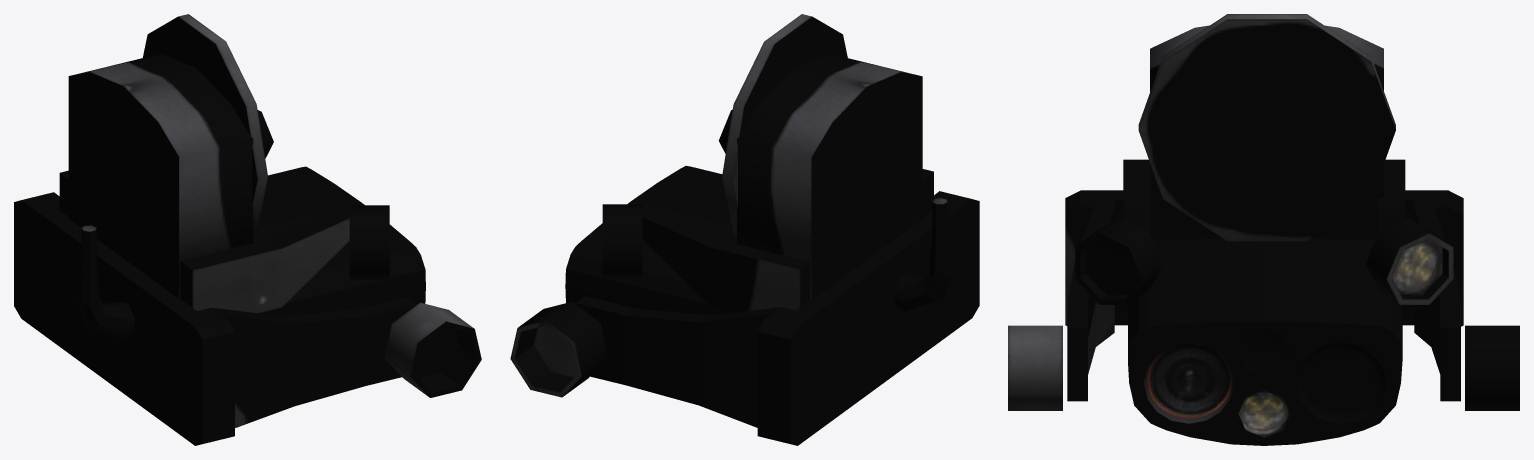
The model's file is head.dae.
The picture shows the model from 3 angles, left to right: view 1: azimuth 30°, elevation 25°; view 2: azimuth 150°, elevation 25°; view 3: azimuth 270°, elevation 25°; orthographic projection. The views are drawn at different scales.
Parts seen in each view (by area): view 1: head; view 2: head; view 3: head.
Part boxes in pixels (x1,y1,x2,y2): head: (14,14,481,445); head: (510,14,979,445); head: (1008,14,1519,445).
Size of the model in its own units: 0.1679 by 0.235 by 0.1765.
Materials: 1 (1 with a texture image).
